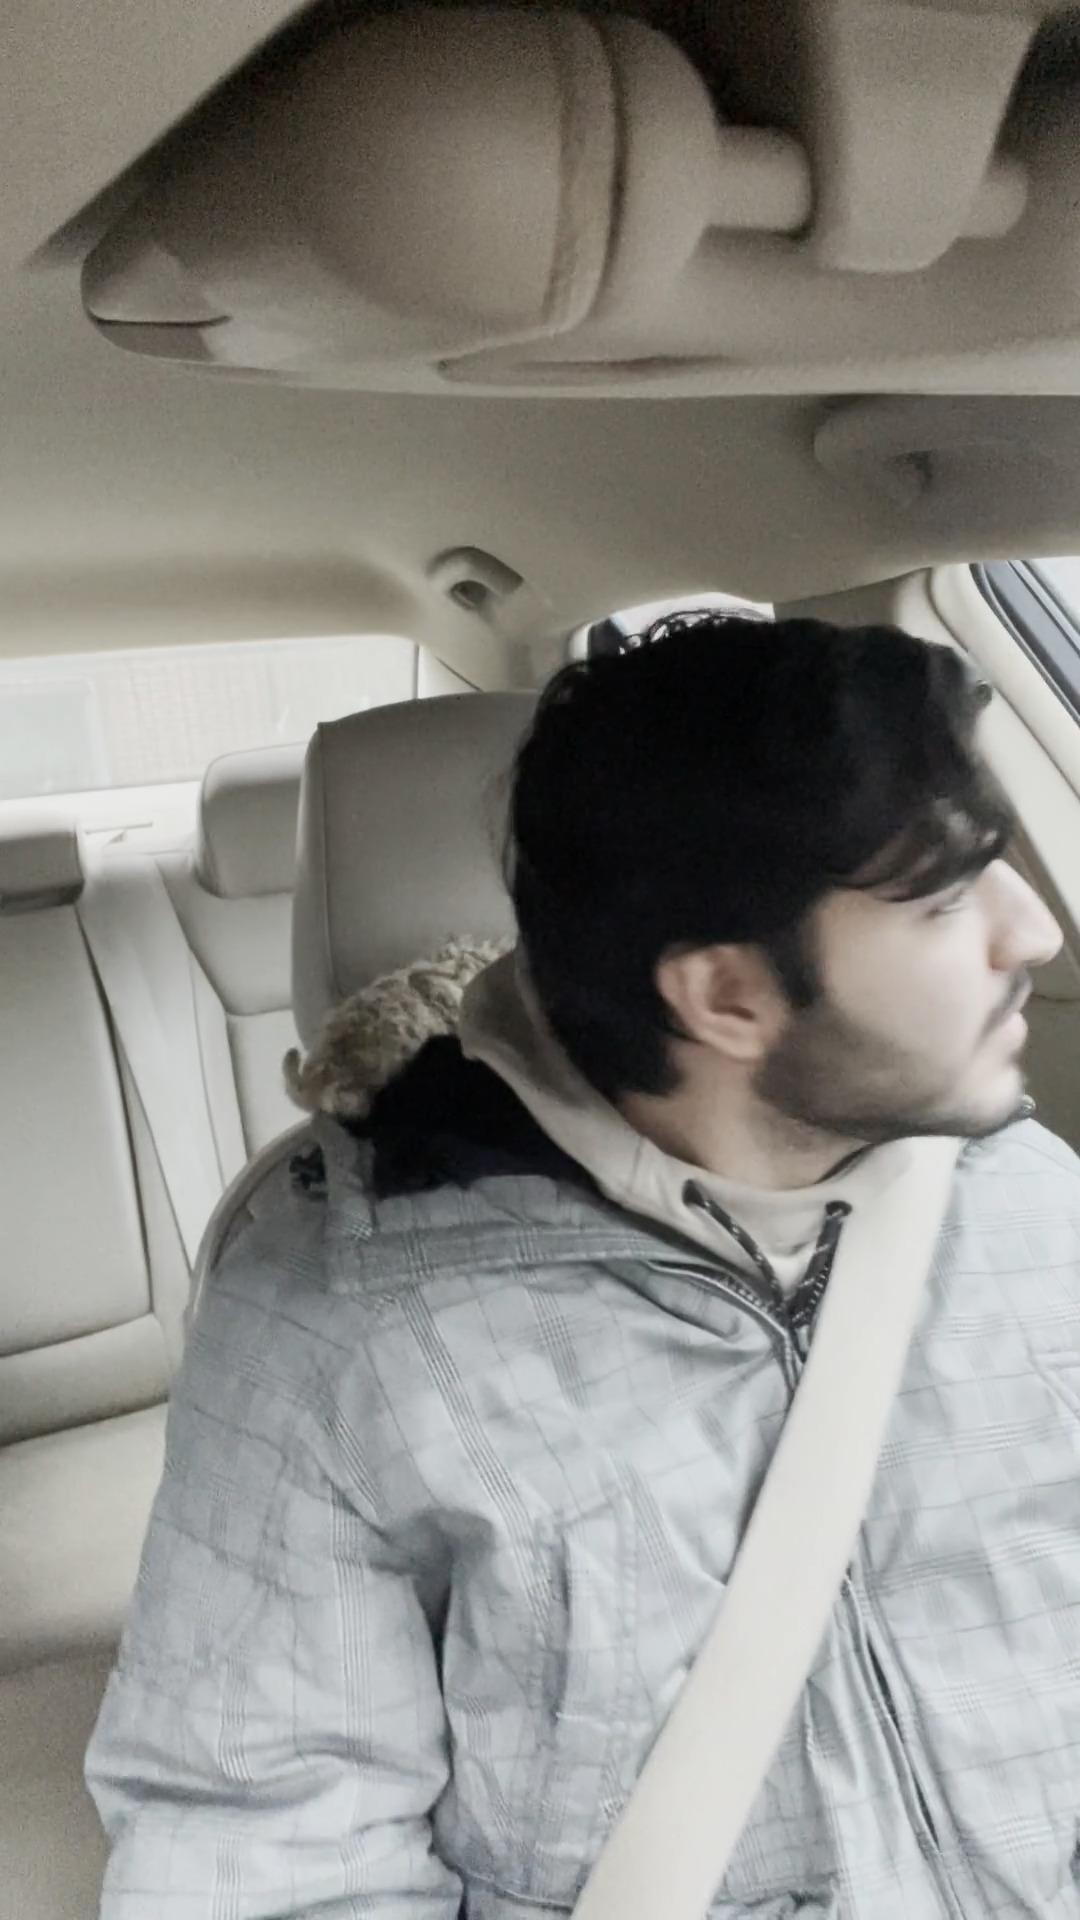inattentive: (469, 625, 1080, 1150)
